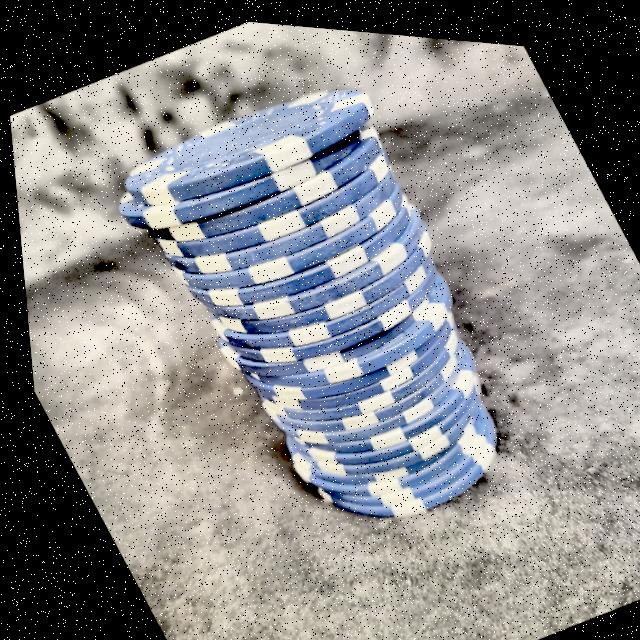Chip: (39, 3, 601, 596)
